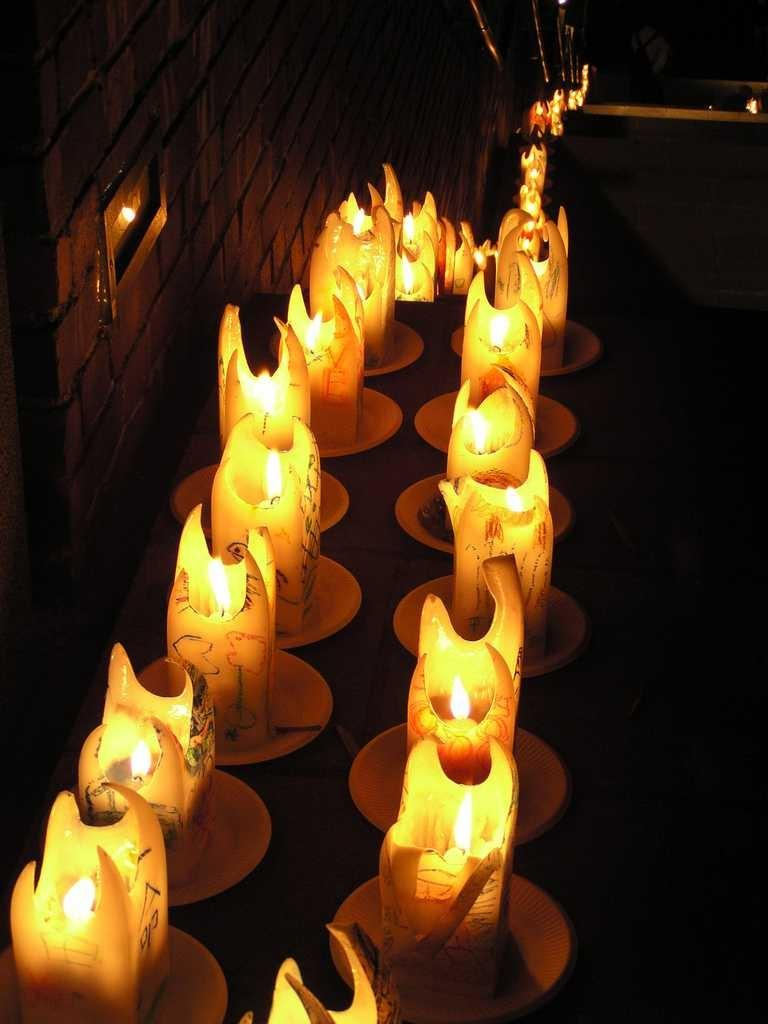fire: (427, 781, 491, 858), (418, 674, 485, 734), (44, 871, 107, 931), (246, 444, 299, 514), (192, 550, 242, 624), (119, 735, 169, 787), (458, 411, 510, 459), (488, 473, 538, 521), (296, 302, 335, 352)
